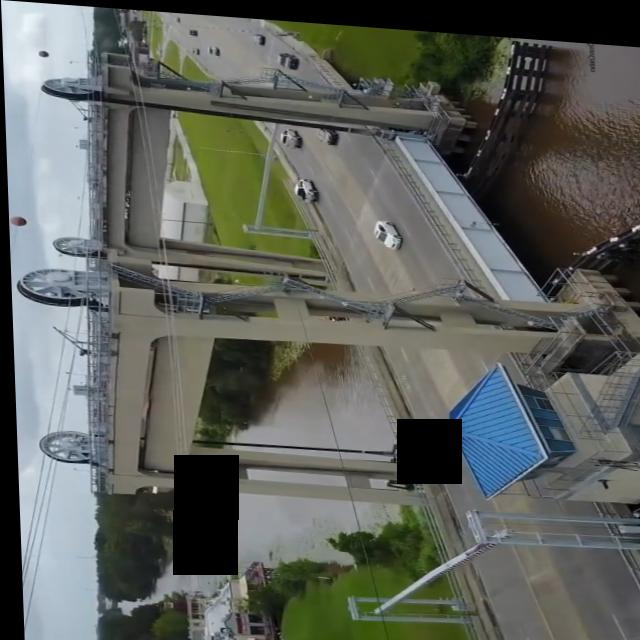Building: (16, 240, 589, 528), (16, 46, 474, 293), (331, 484, 640, 640), (410, 327, 640, 495)
Vehicle: (348, 201, 410, 252), (276, 164, 330, 198), (268, 121, 311, 151), (263, 44, 311, 69)
